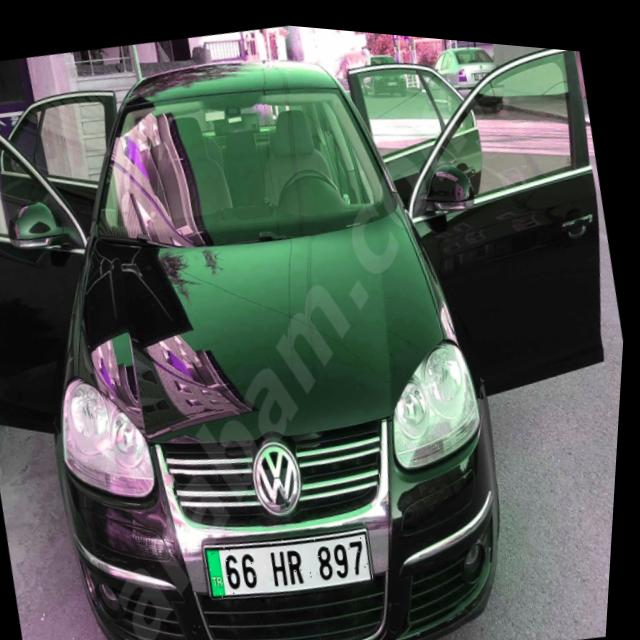license_plate: (207, 509, 381, 606)
